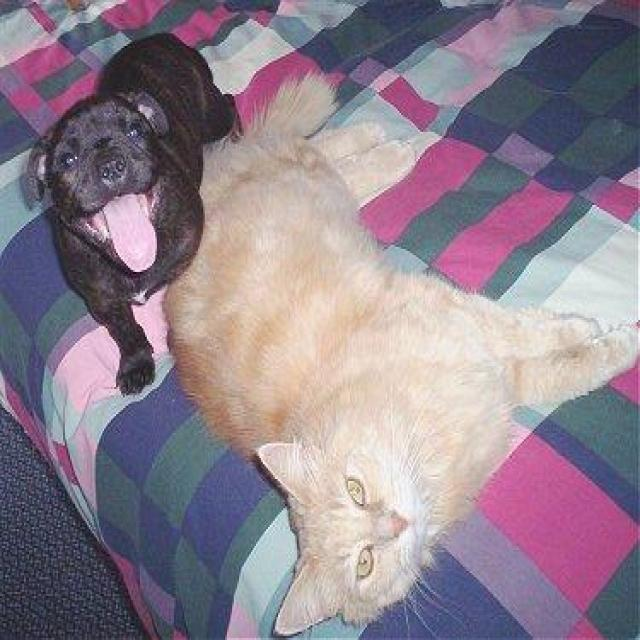staffordshire_bullterrier: (21, 33, 240, 396)
